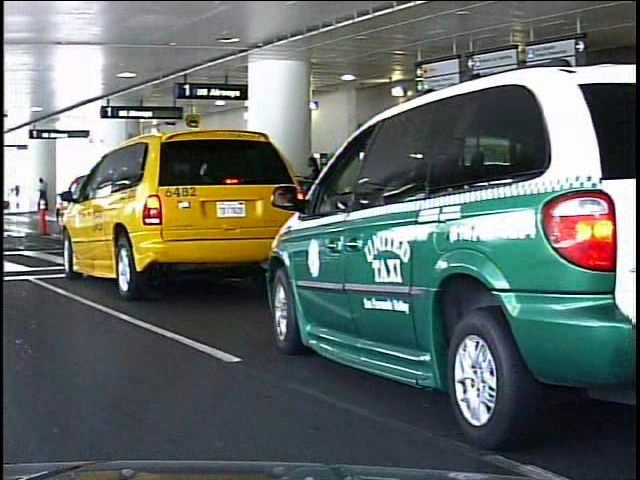person: (32, 176, 45, 200)
